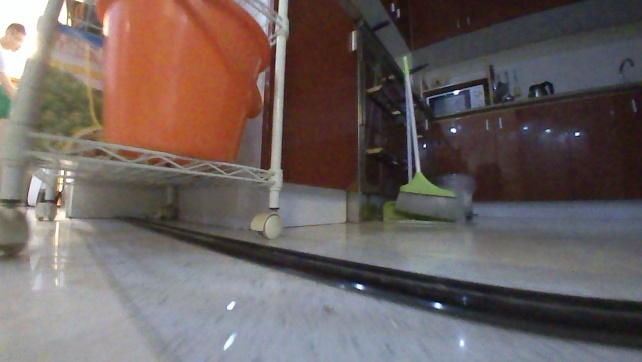cupboard: (180, 0, 641, 228)
